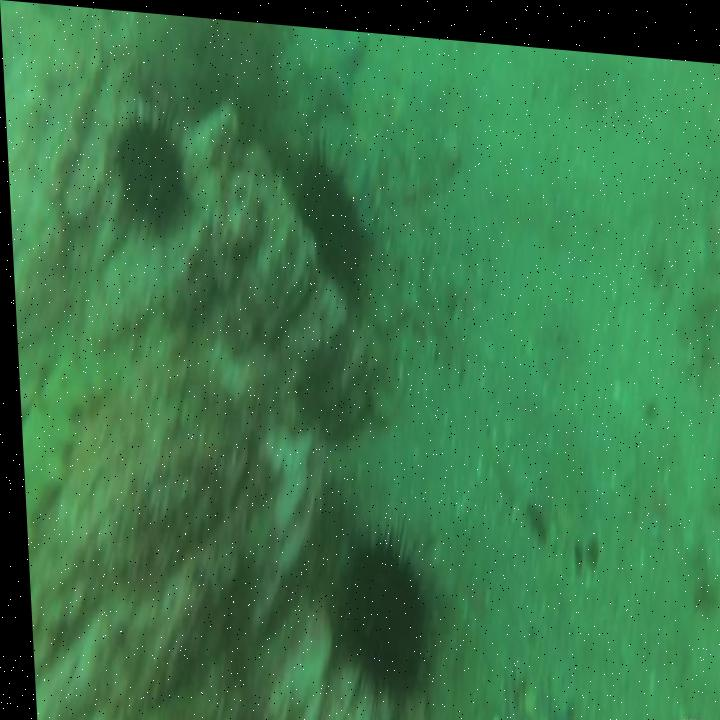echinus: (331, 532, 419, 697), (296, 152, 363, 291), (112, 114, 177, 223)
scallop: (510, 668, 531, 709)
